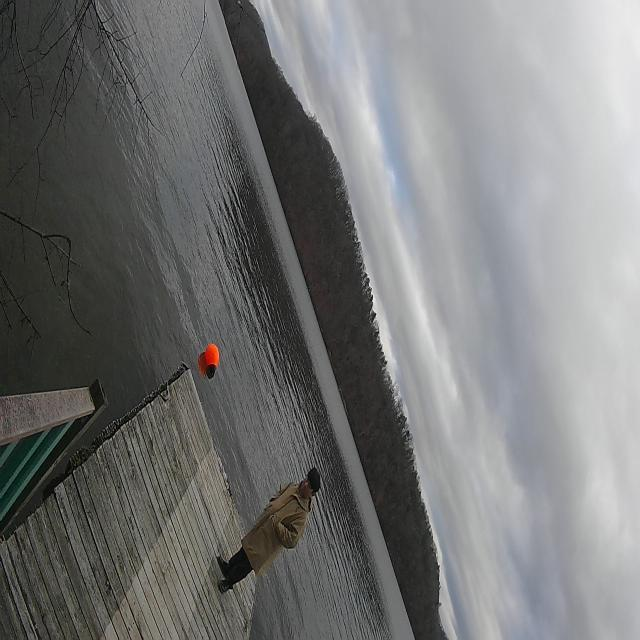Buoy: (202, 339, 222, 374)
